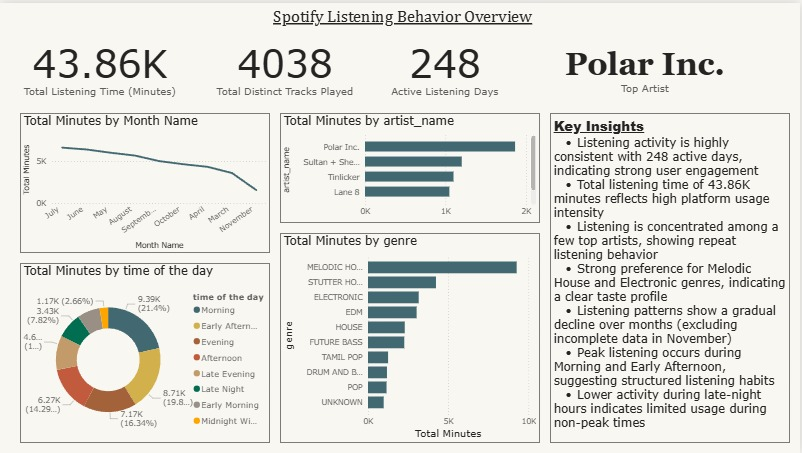

Layout of this report page (visuals, bound fields, positions):
{"tool":"powerbi","page":{"name":"Spotify Listening Behaviour Overview","canvas":[1280,720],"ordinal":0},"visuals":[{"type":"lineChart","fields":{"Category":["Dim_Date.Month Name"],"Y":["fact_listening_events3.Total Minutes"]},"box":[32,176,400,224],"z":0},{"type":"donutChart","fields":{"Category":["fact_listening_events3.time of the day"],"Y":["fact_listening_events3.Total Minutes"]},"box":[32,416,400,288],"z":1000},{"type":"barChart","fields":{"Category":["artist_table.genre "],"Y":["fact_listening_events3.Total Minutes"]},"box":[448,368,416,336],"z":2000},{"type":"card","fields":{"Values":["Dim_Date.Top Artist"]},"box":[816,48,432,112],"z":3000},{"type":"barChart","fields":{"Category":["artist_table.artist_name"],"Y":["fact_listening_events3.Total Minutes"]},"box":[448,176,416,176],"z":4000},{"type":"card","fields":{"Values":["fact_listening_events3.Total Minutes"]},"box":[32,48,256,112],"z":5000},{"type":"card","fields":{"Values":["Count(tracks_table.track_id)"]},"box":[336,48,240,112],"z":6000},{"type":"card","fields":{"Values":["Dim_Date.Listening Days"]},"box":[608,48,208,112],"z":7000},{"type":"textbox","box":[432,0,624,64],"z":8000},{"type":"textbox","box":[880,176,384,528],"z":9000}]}

Visuals, with their boxes in screenshot pixels (x1, y1, x2, y2), scaled from the page's 1280x720 canvas onto the 802x453 screenshot:
lineChart - Dim_Date.Month Name x fact_listening_events3.Total Minutes: region(20, 111, 271, 252)
donutChart - fact_listening_events3.time of the day x fact_listening_events3.Total Minutes: region(20, 262, 271, 443)
barChart - artist_table.genre  x fact_listening_events3.Total Minutes: region(281, 232, 541, 443)
card - Dim_Date.Top Artist: region(511, 30, 782, 101)
barChart - artist_table.artist_name x fact_listening_events3.Total Minutes: region(281, 111, 541, 221)
card - fact_listening_events3.Total Minutes: region(20, 30, 180, 101)
card - Count(tracks_table.track_id): region(211, 30, 361, 101)
card - Dim_Date.Listening Days: region(381, 30, 511, 101)
textbox: region(271, 0, 662, 40)
textbox: region(551, 111, 792, 443)
